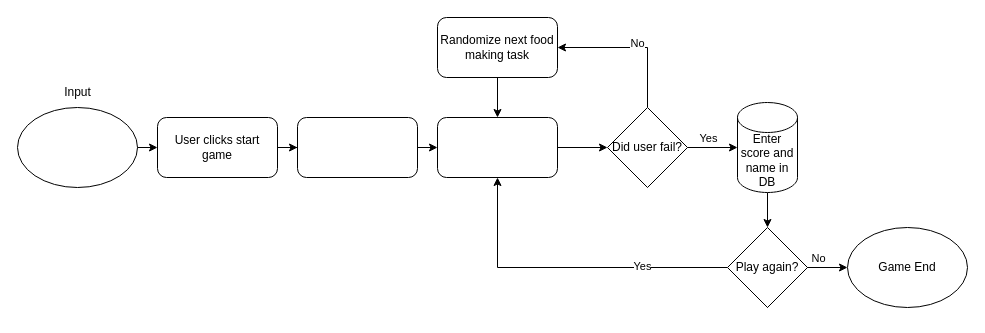
This 985x333 diagram has some shape labels left out. The box of each missing label's shape, as (x1, y1, x2, y2) in pixels:
User clicks on something: (16, 106, 138, 188)
User enters game play tutorial: (296, 116, 418, 178)
User has to make food in the game: (436, 116, 558, 178)
